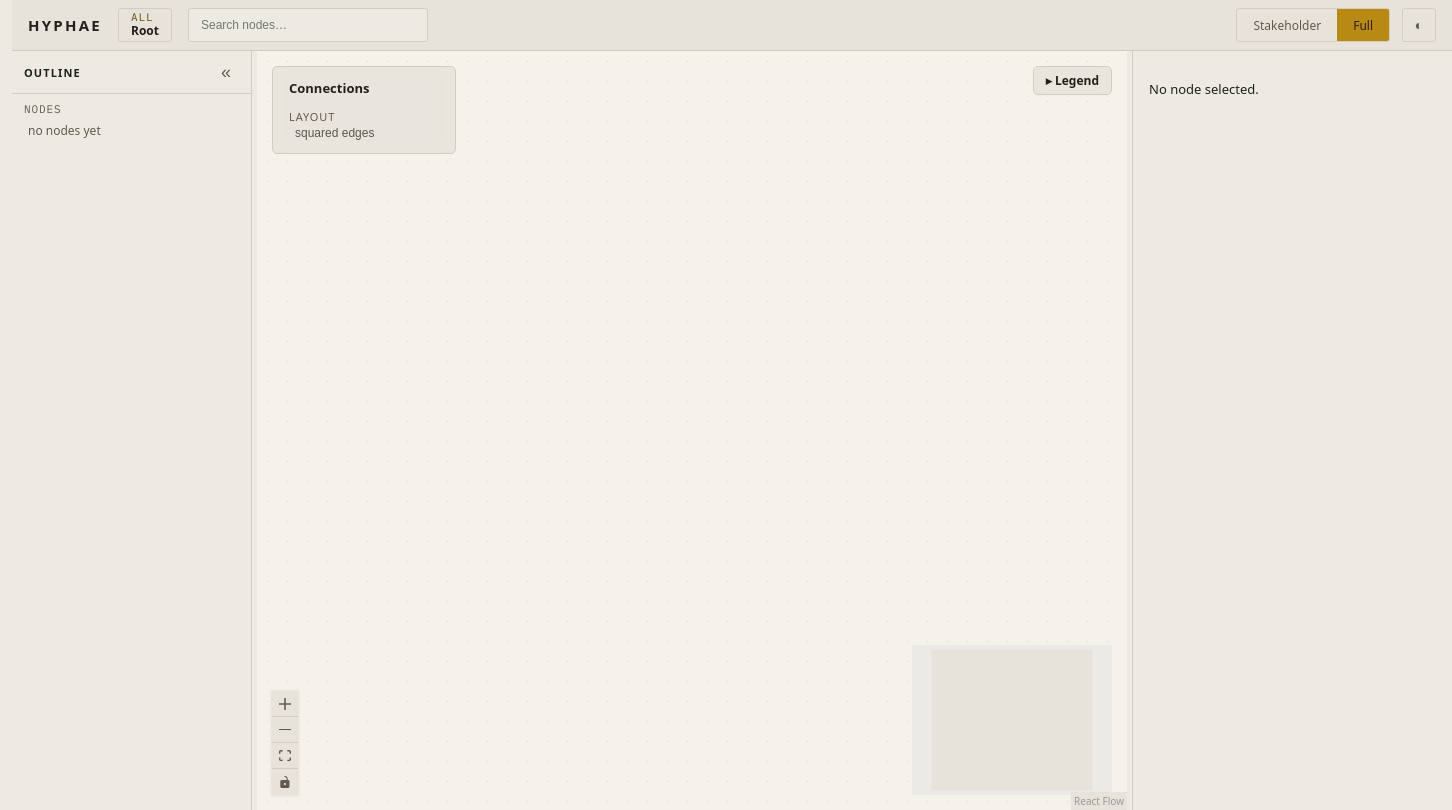
Test: App › collapses and restores the outline from the lifted toggle
Step 1. Click the button named "hide model outline" → (226, 72), box [213,59,239,85]
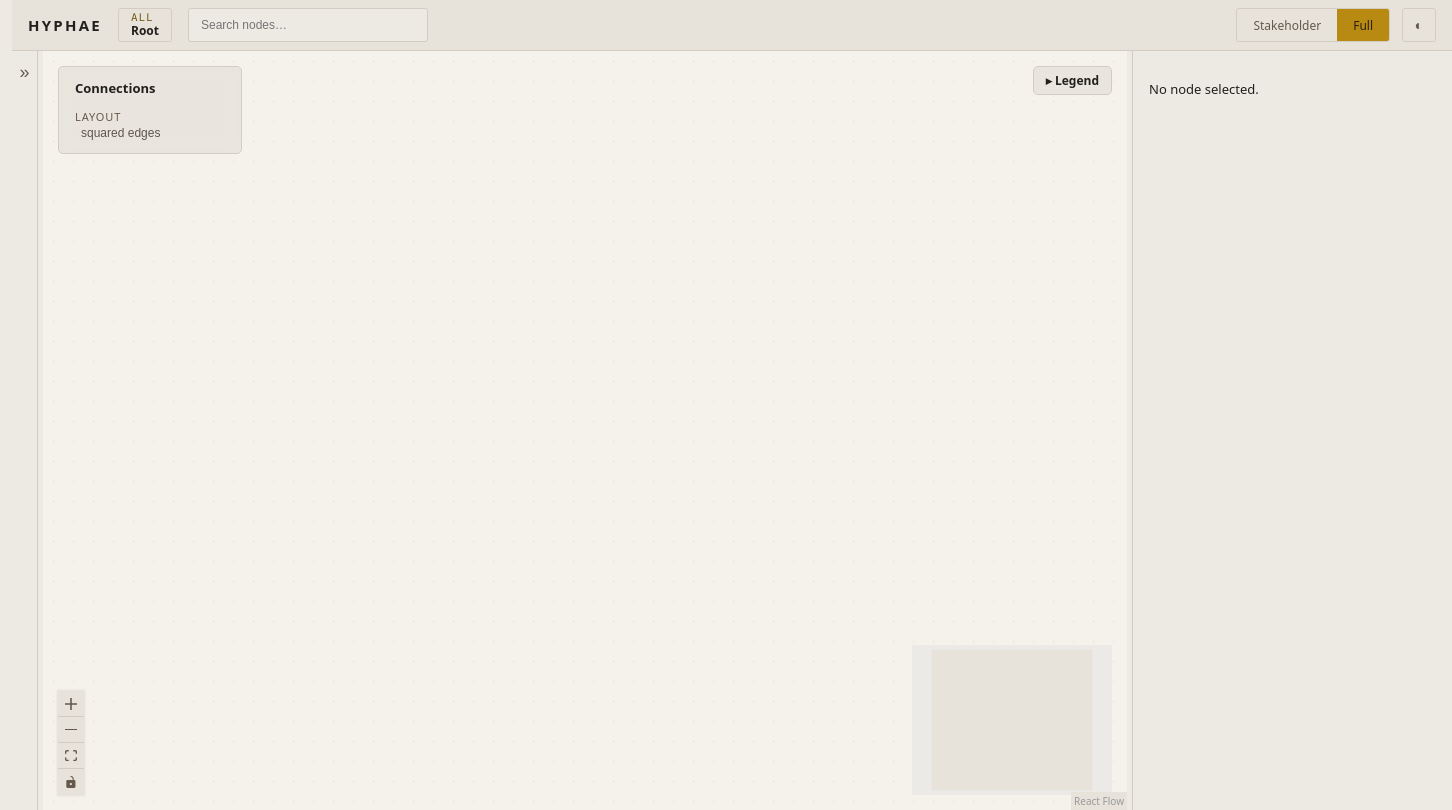
Result: the button named "show model outline" is shown
Step 2. Click the button named "show model outline" → (24, 72), box [12,59,38,85]
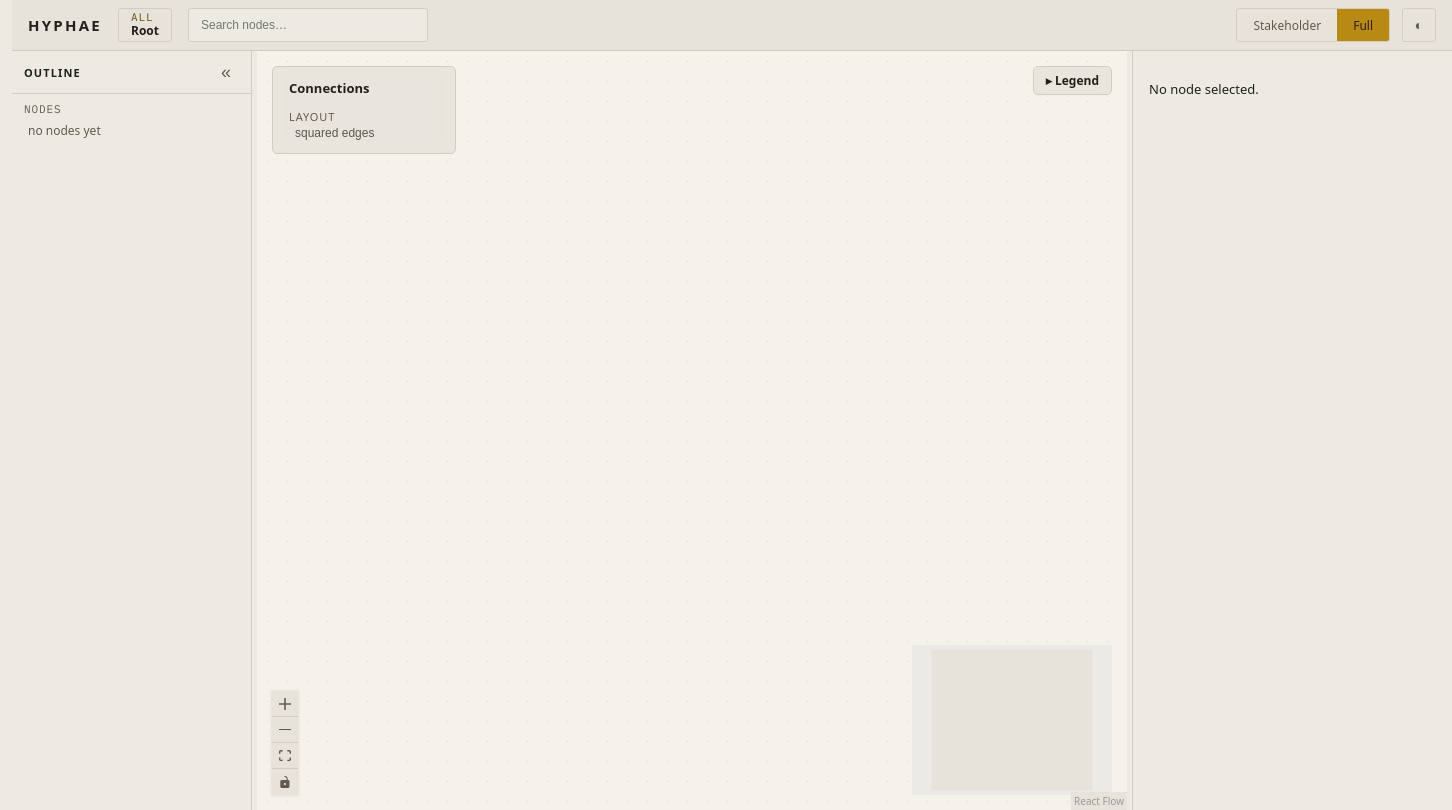
Result: the button named "hide model outline" is shown at [213,59,239,85]
